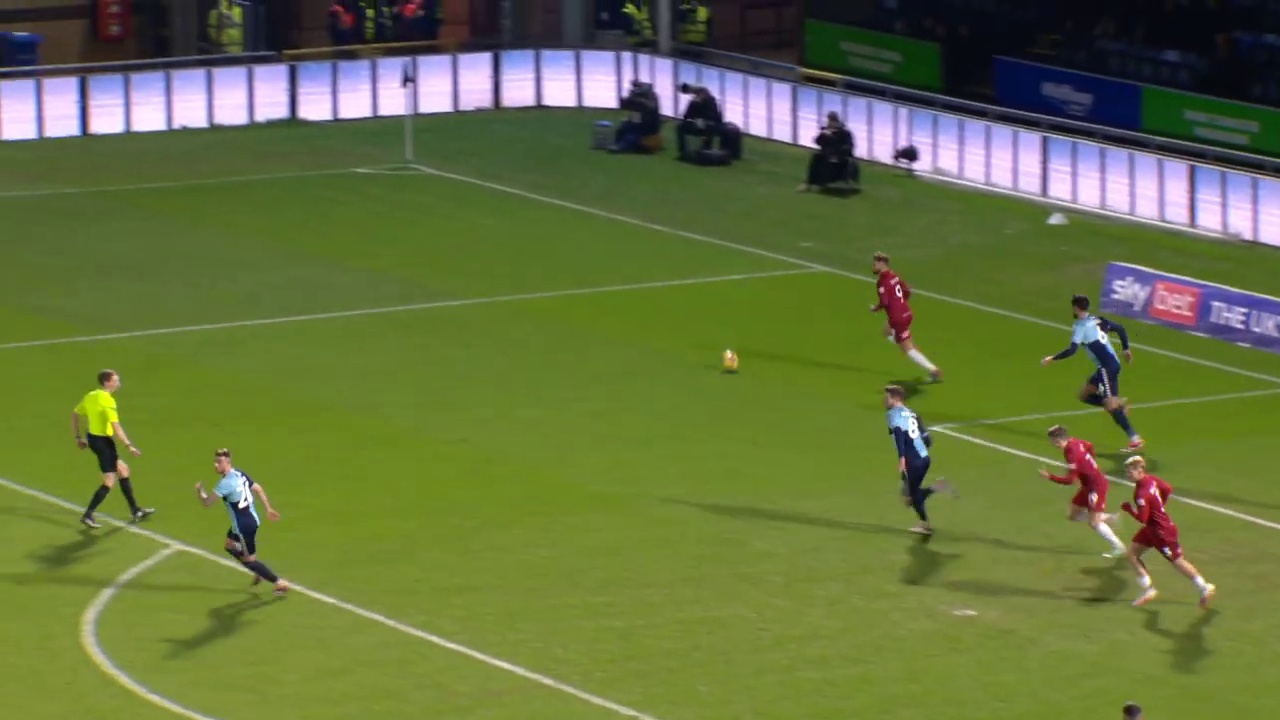ball: (744, 238, 780, 274)
